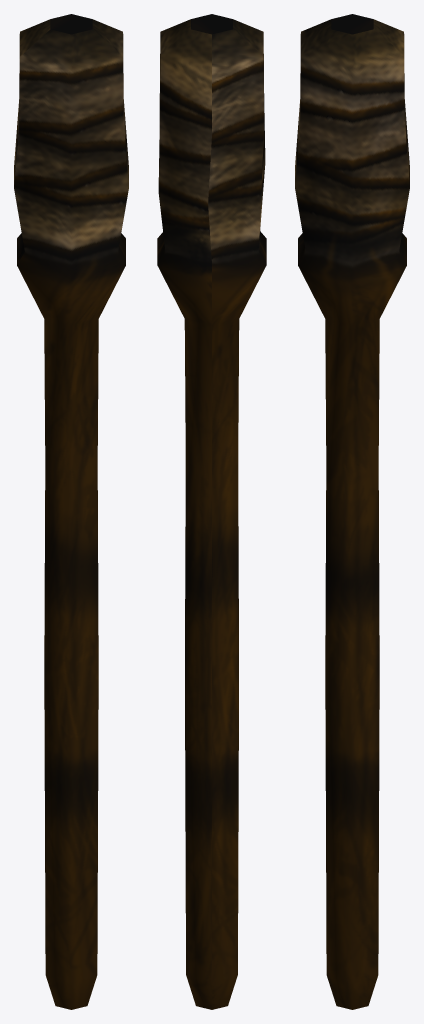
File: Torch.obj
The picture shows the model from 3 angles, left to right: view 1: azimuth 90°, elevation 25°; view 2: azimuth 150°, elevation 25°; view 3: azimuth 270°, elevation 25°; orthographic projection.
Parts seen in each view (by area): view 1: Cylinder001; view 2: Cylinder001; view 3: Cylinder001.
Part boxes in pixels (x1=…): Cylinder001: x1=14, y1=14, x2=128, y2=1009; Cylinder001: x1=157, y1=14, x2=266, y2=1009; Cylinder001: x1=295, y1=14, x2=409, y2=1009.
Bounding box in the file's own units: 5.78 × 49.41 × 5.25.
